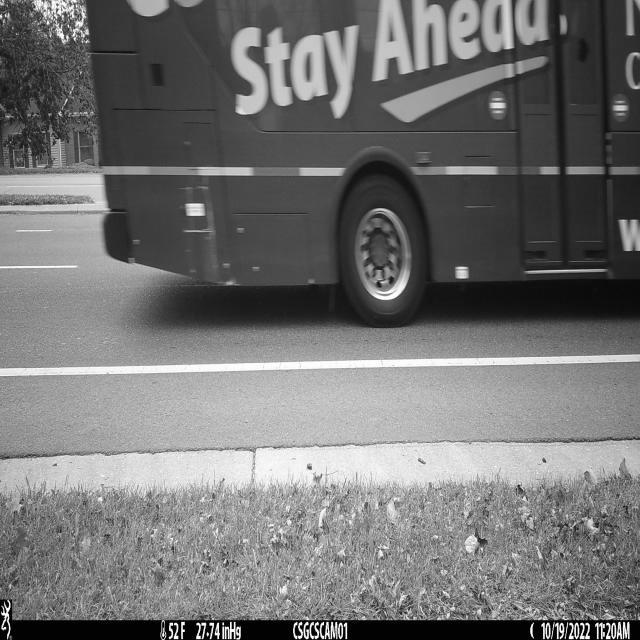Bus: (83, 0, 640, 330)
